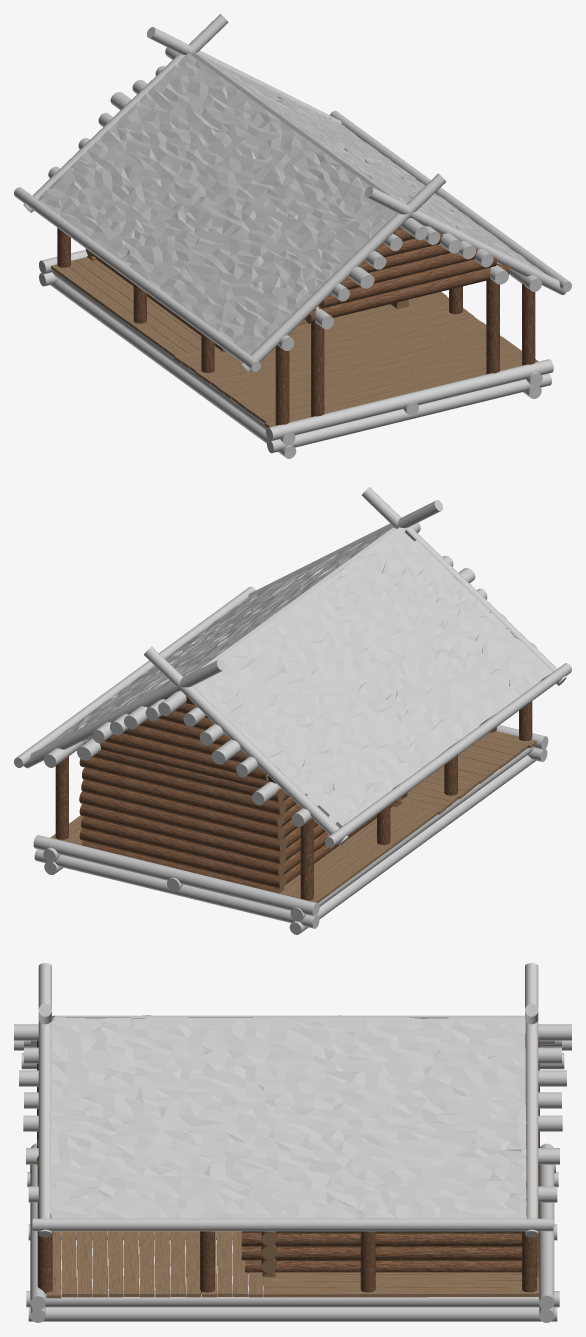
Rendered from izbushka_LOD1.fbx.
The picture shows the model from 3 angles, top to bottom: view 1: azimuth 30°, elevation 25°; view 2: azimuth 150°, elevation 25°; view 3: azimuth 270°, elevation 25°; orthographic projection. The views are drawn at different scales.
Visible parts, largest first — view 1: Куб.003, Куб.002, Цилиндр.003, Цилиндр.014, Цилиндр, Цилиндр.017, Цилиндр.008, Цилиндр.015, Цилиндр.016, Цилиндр.022, Цилиндр.023, Цилиндр.041 (+26 smaller); view 2: Куб.003, Куб.002, Цилиндр.006, Цилиндр.014, Цилиндр.001, Цилиндр.041, Цилиндр.008, Цилиндр.045, Цилиндр.042, Цилиндр.044, Цилиндр.043, Цилиндр.046 (+19 smaller); view 3: Куб.002, Цилиндр.005, Цилиндр.015, Цилиндр.002, Цилиндр.050, Цилиндр.051, Цилиндр.016, Цилиндр.040, Цилиндр.020, Куб.049, Цилиндр.006, Куб.047 (+31 smaller).
Boxes of the visible parts, x1,y1,x2,y2 form: Куб.003: [38, 53, 396, 354]; Куб.002: [191, 52, 543, 272]; Цилиндр.003: [266, 359, 553, 441]; Цилиндр.014: [14, 187, 260, 371]; Цилиндр: [267, 373, 551, 453]; Цилиндр.017: [241, 173, 445, 372]; Цилиндр.008: [50, 279, 296, 458]; Цилиндр.015: [330, 110, 571, 291]; Цилиндр.016: [364, 186, 566, 295]; Цилиндр.022: [305, 263, 509, 323]; Цилиндр.023: [319, 257, 496, 308]; Цилиндр.041: [23, 14, 228, 212]; Куб.003: [193, 527, 552, 827]; Куб.002: [43, 526, 396, 747]; Цилиндр.006: [33, 835, 319, 916]; Цилиндр.014: [325, 663, 571, 847]; Цилиндр.001: [34, 849, 319, 928]; Цилиндр.041: [144, 646, 348, 845]; Цилиндр.008: [289, 755, 535, 934]; Цилиндр.045: [79, 791, 286, 852]; Цилиндр.042: [79, 828, 286, 888]; Цилиндр.044: [79, 804, 286, 864]; Цилиндр.043: [81, 816, 285, 876]; Цилиндр.046: [81, 779, 284, 839]; Куб.002: [50, 1017, 526, 1218]; Цилиндр.005: [28, 1307, 557, 1321]; Цилиндр.015: [32, 1218, 553, 1231]; Цилиндр.002: [26, 1291, 559, 1307]; Цилиндр.050: [241, 1246, 521, 1260]; Цилиндр.051: [241, 1232, 521, 1246]; Цилиндр.016: [38, 963, 51, 1237]; Цилиндр.040: [525, 963, 538, 1237]; Цилиндр.020: [245, 1260, 521, 1273]; Куб.049: [264, 1287, 539, 1297]; Цилиндр.006: [539, 1143, 554, 1309]; Куб.047: [264, 1274, 538, 1281].
Bounding box in the file's own units: 5535 × 3988 × 7388.
